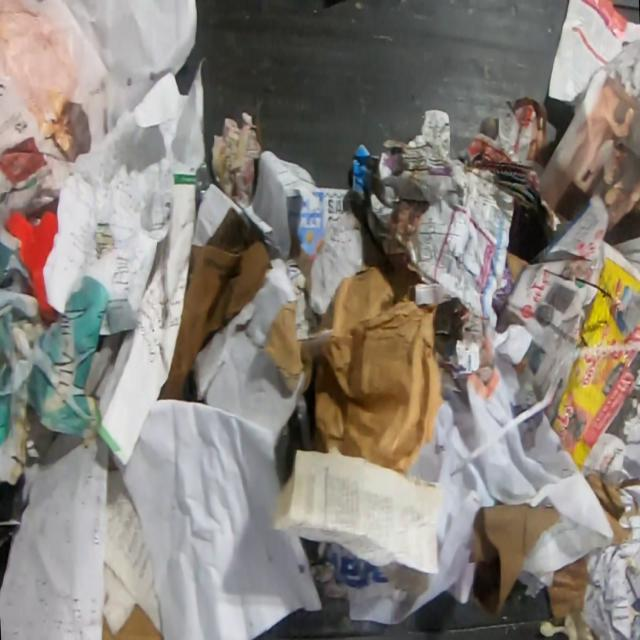cardboard: (156, 207, 274, 406), (4, 208, 58, 322), (103, 602, 166, 639)
